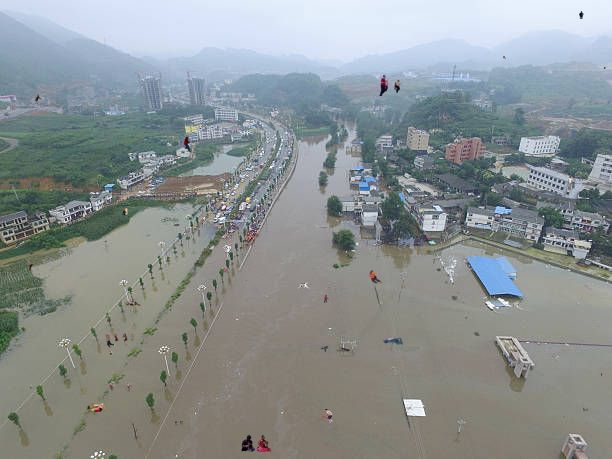Human: (101, 333, 135, 348), (241, 435, 271, 452), (379, 75, 402, 96), (108, 381, 132, 392), (146, 392, 156, 414), (369, 270, 383, 285), (87, 402, 108, 412), (160, 369, 169, 389), (383, 337, 403, 345), (322, 409, 333, 423), (568, 175, 576, 190), (184, 135, 191, 152), (105, 312, 112, 327), (297, 282, 310, 290), (34, 94, 44, 104), (331, 347, 350, 352), (125, 301, 141, 306), (122, 206, 128, 216), (175, 420, 183, 426), (321, 346, 328, 352), (324, 295, 329, 303), (579, 11, 584, 19), (29, 264, 33, 272), (583, 408, 589, 412), (109, 351, 113, 355), (30, 384, 33, 389), (503, 56, 506, 59), (604, 67, 606, 69), (461, 218, 463, 220), (601, 373, 602, 376), (262, 151, 263, 154), (389, 116, 390, 118), (246, 279, 247, 281)
